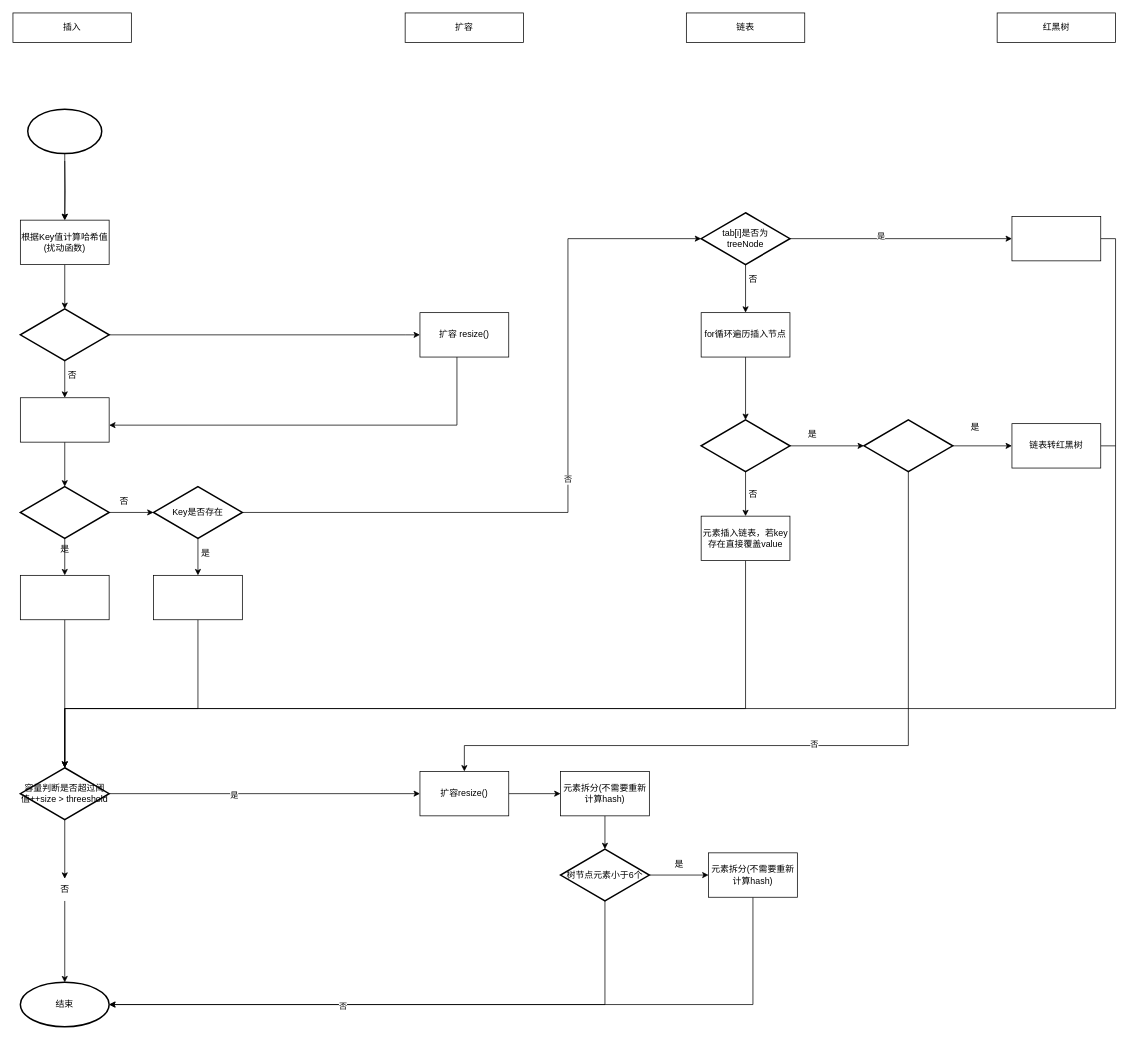
This 1134x1040 diagram has some shape labels left out. Each missing label, with the centre of its shape:
Table空or length==0: (64,334)
值覆盖: (197,597)
开始: (64,131)
当前元素数组 下标是否为空: (64,512)
桶数组容量大于MIN_TREEIFY_CAPACITY: (908,445)
直接插入: (64,597)
红黑树中插入元素: (1056,238)
计算数组下标 （n-1）&hash: (64,419)
链表长度大于8 TREEIFY_THRESHOLD: (745,445)
